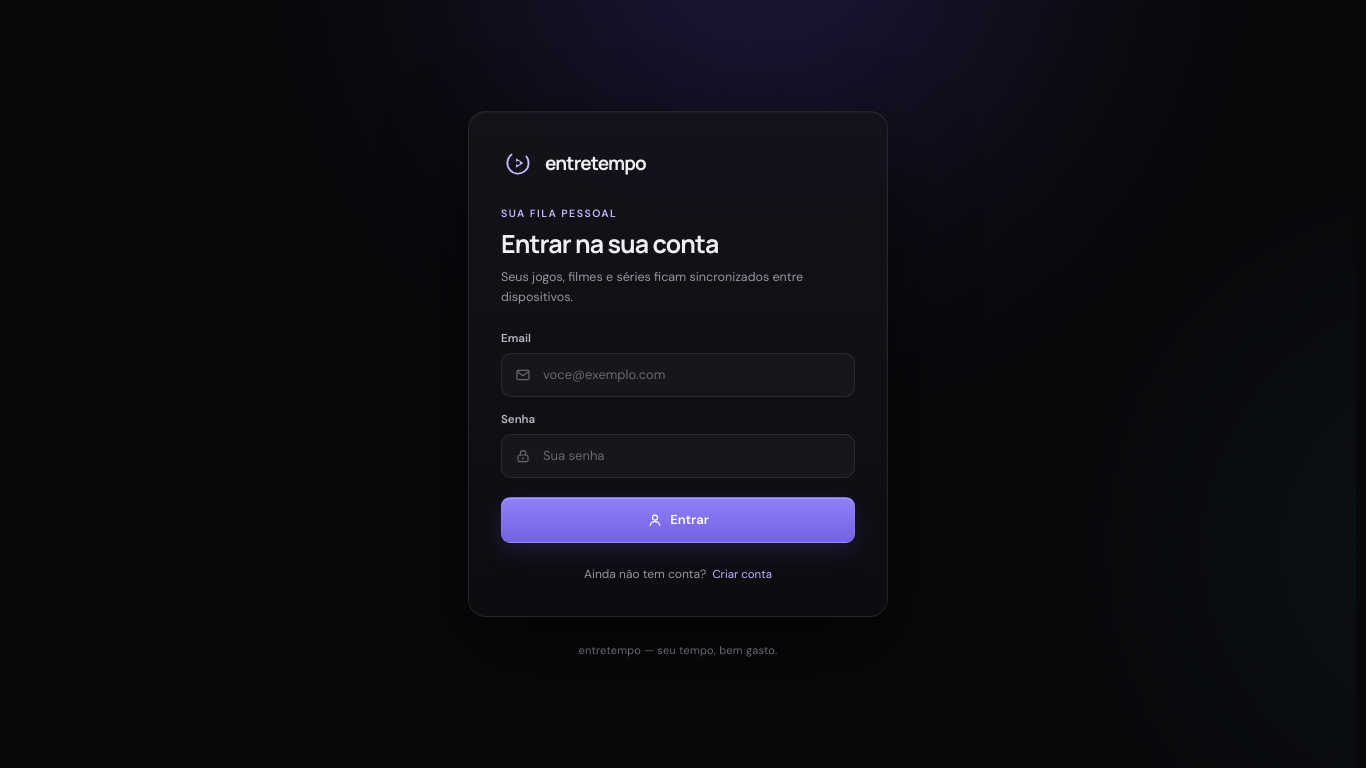
Scenario: LoginScreen › exibe a mensagem de erro devolvida pela autenticação
Type "a@b.com" into the field labelled "Email".
click(691, 375); type("a@b.com")  # box x1=541 y1=354 x2=841 y2=396
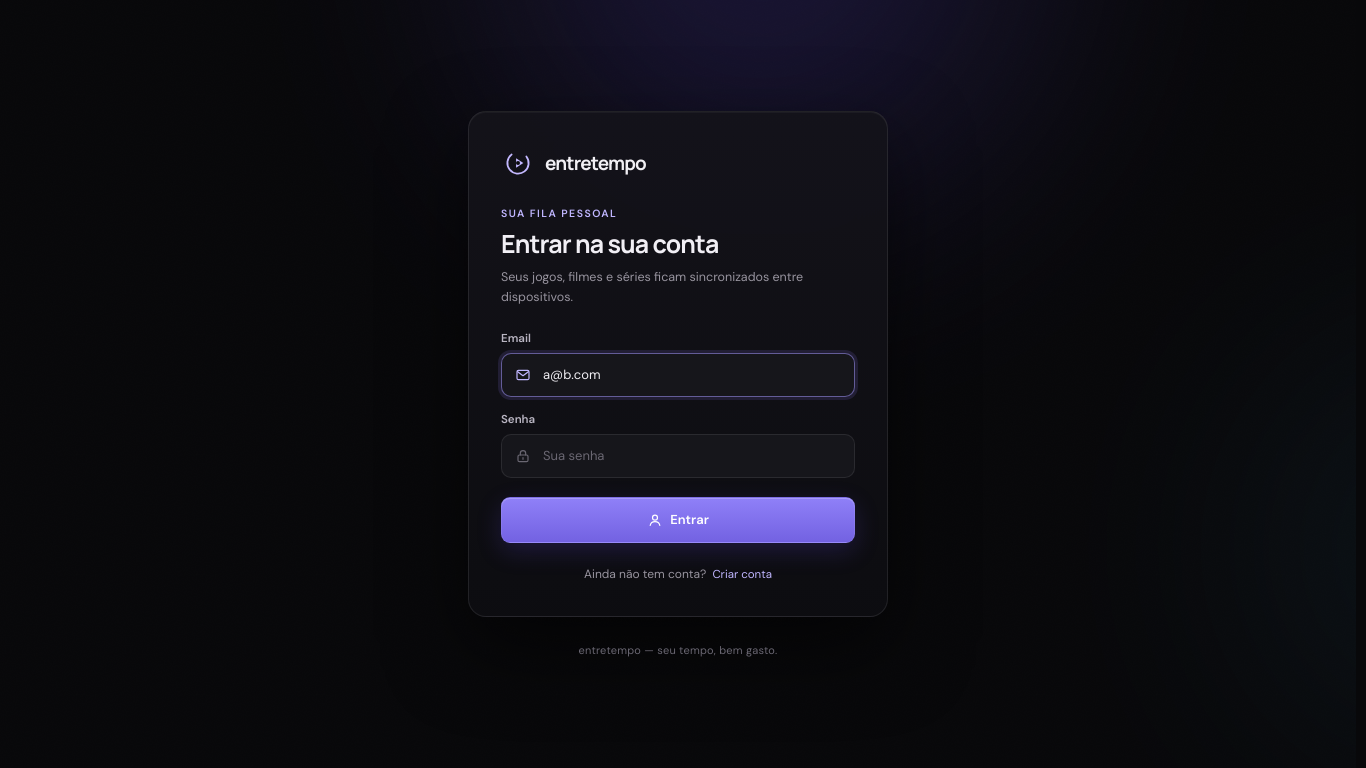
Type "errada1" into the password field labelled "Senha".
click(691, 456); type("errada1")  # box x1=541 y1=435 x2=841 y2=477
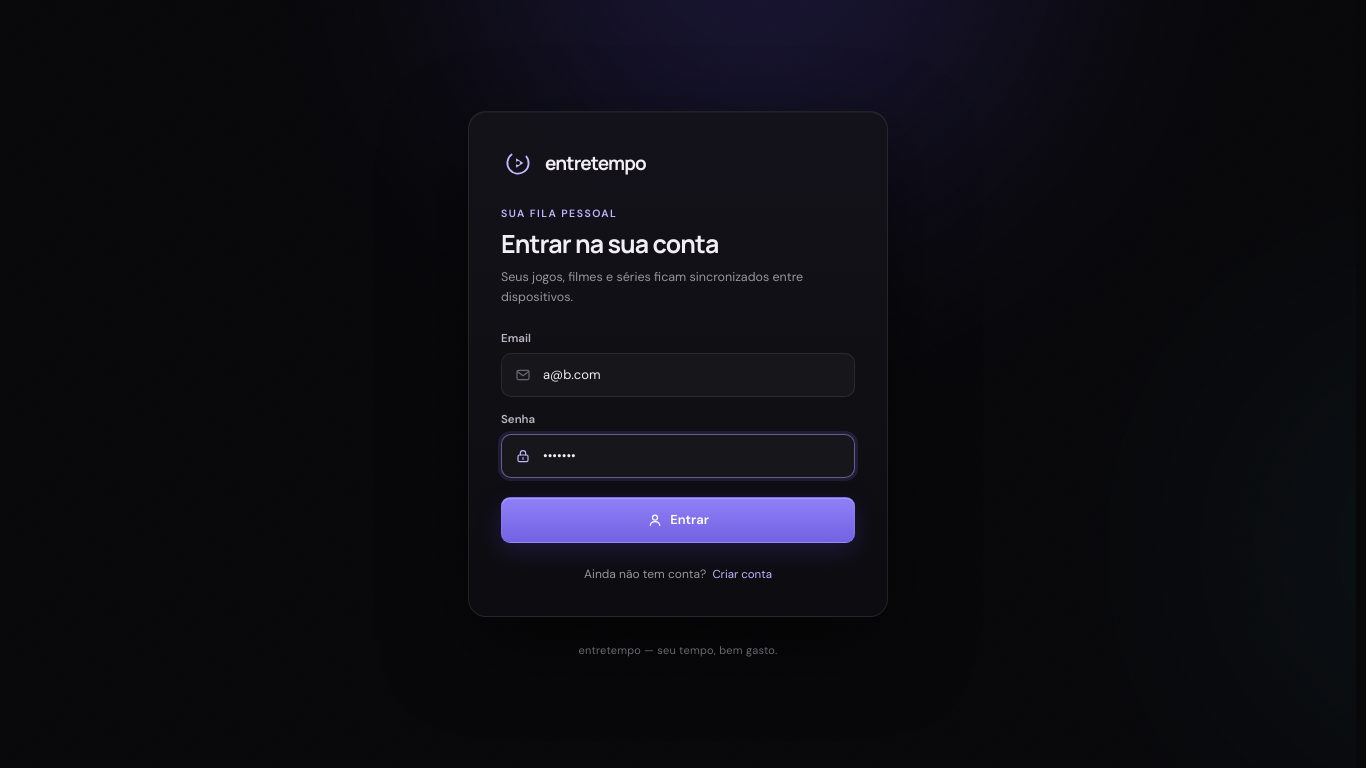
Click the button "Entrar".
click(678, 520)  # box x1=501 y1=497 x2=855 y2=543
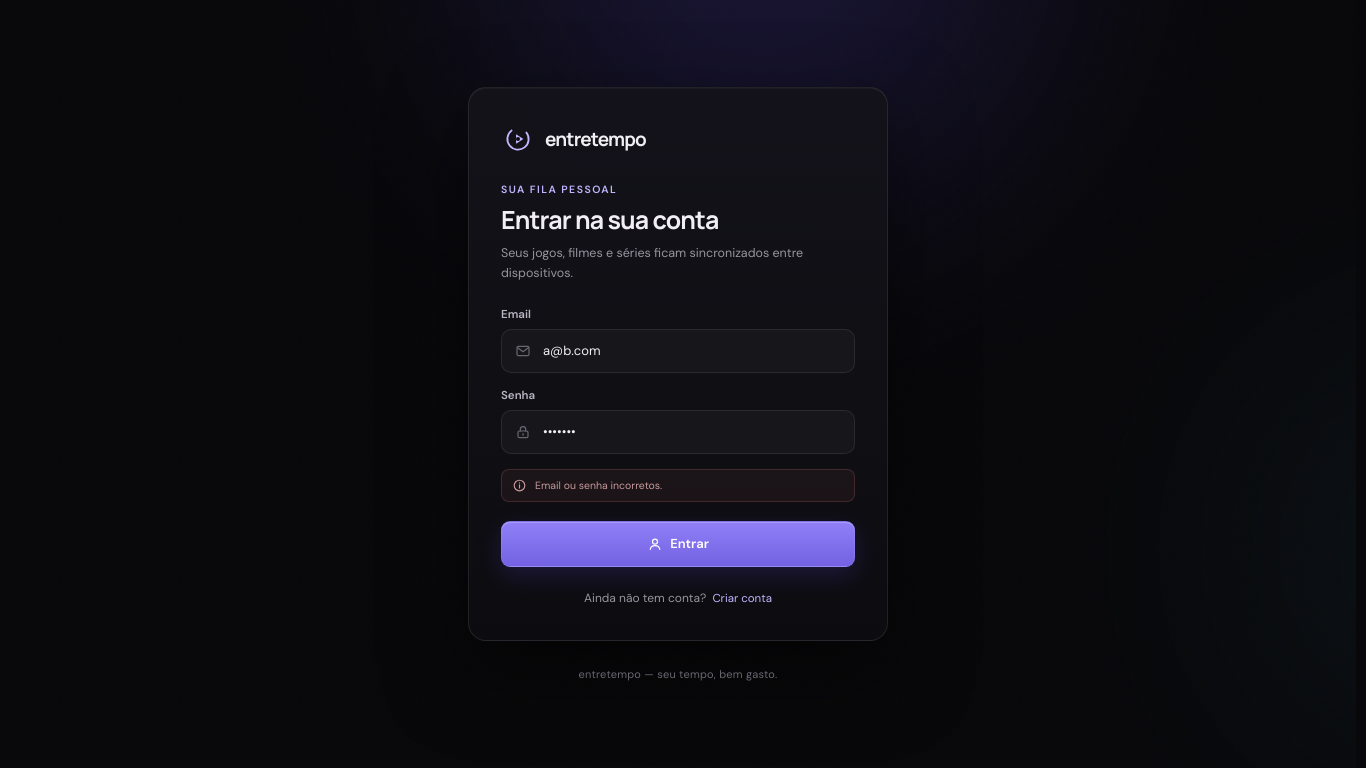
Check: the message reads "Email ou senha incorretos.", box x1=535 y1=479 x2=662 y2=492
